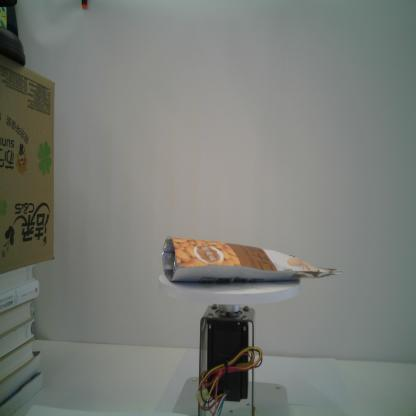Dried Fruit: (161, 236, 343, 284)
